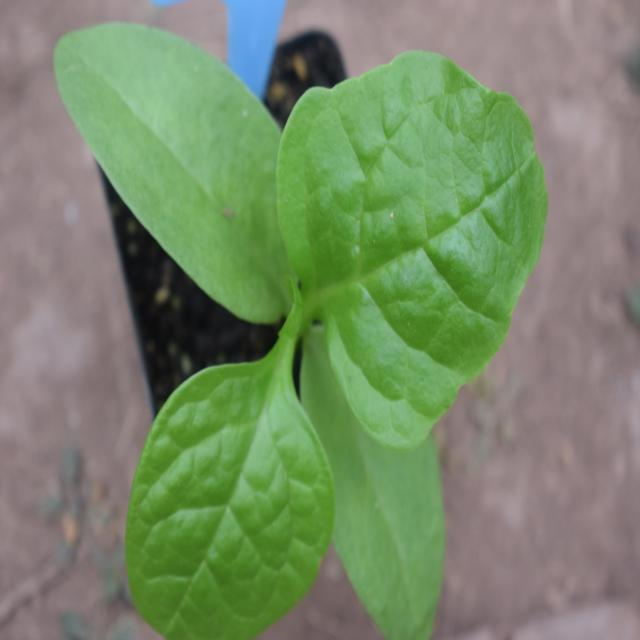Ceylon spinach: (43, 0, 546, 614)
